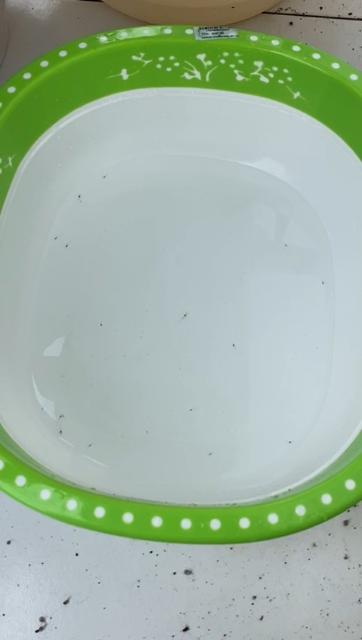benur: (282, 239, 292, 252), (144, 426, 154, 437), (183, 309, 191, 319), (63, 242, 71, 251), (207, 450, 215, 459), (231, 342, 239, 350), (320, 279, 327, 288), (88, 443, 95, 451), (76, 194, 84, 200), (58, 412, 64, 420), (40, 405, 46, 413), (53, 235, 60, 241), (287, 440, 294, 446), (189, 406, 194, 414), (102, 174, 108, 180), (59, 429, 65, 435), (99, 321, 104, 328)
